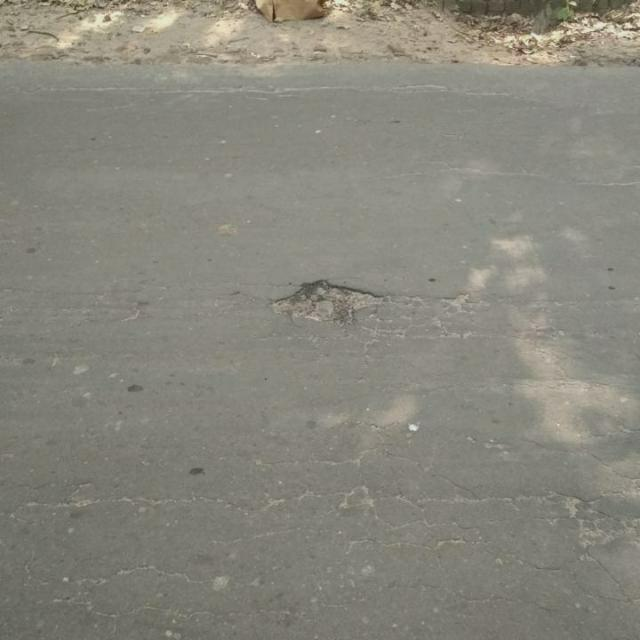Pothole: (268, 276, 390, 326)
